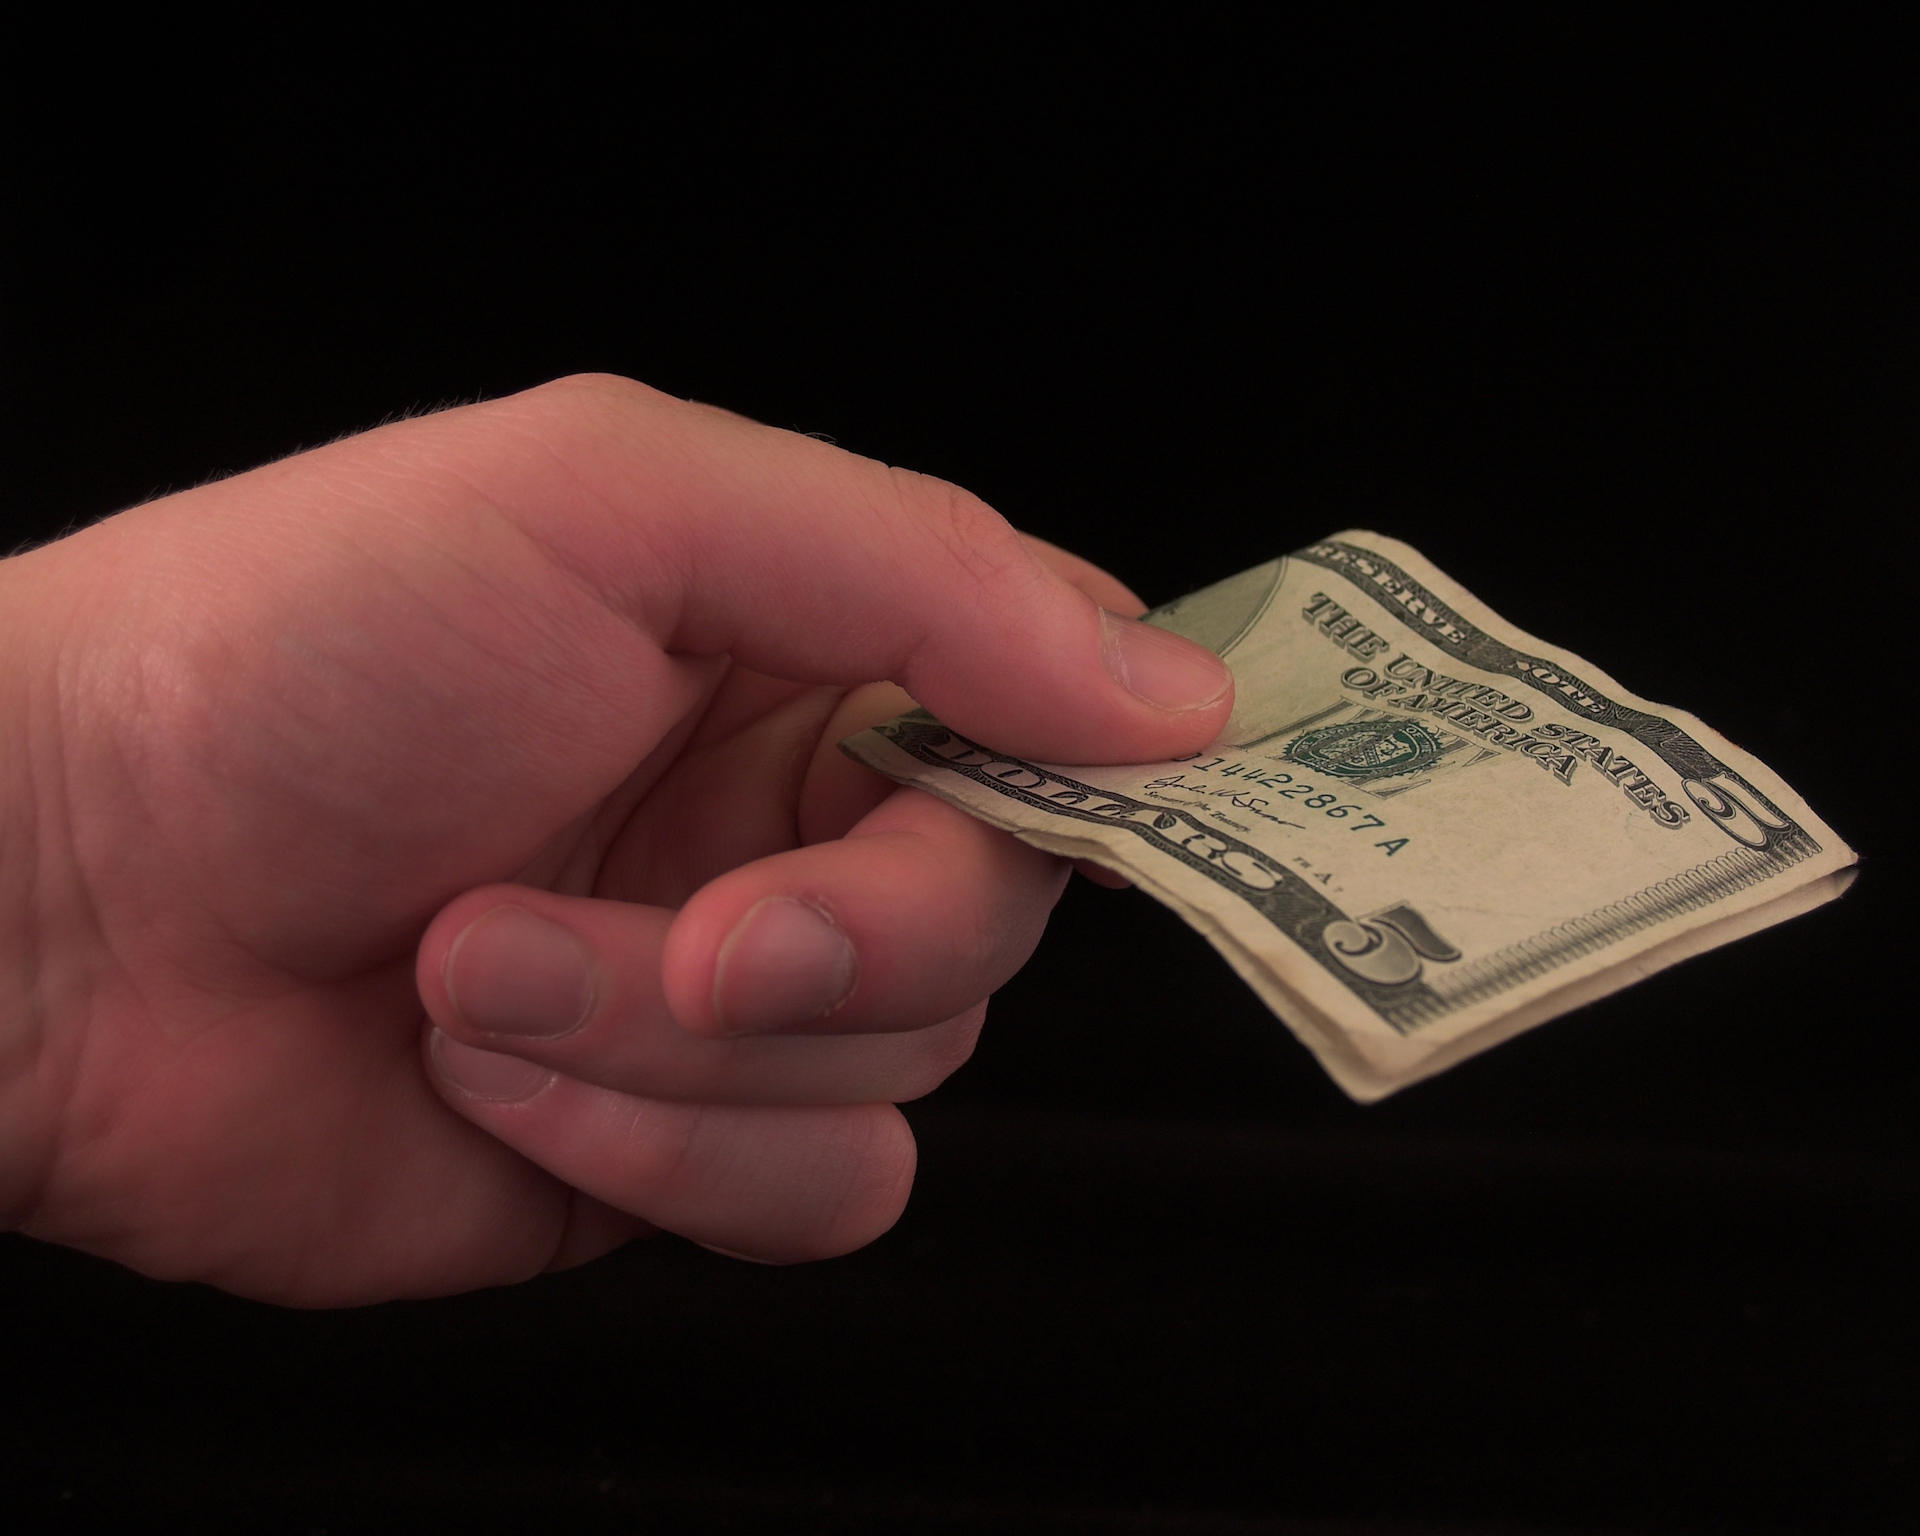billete: (829, 483, 1868, 1110)
